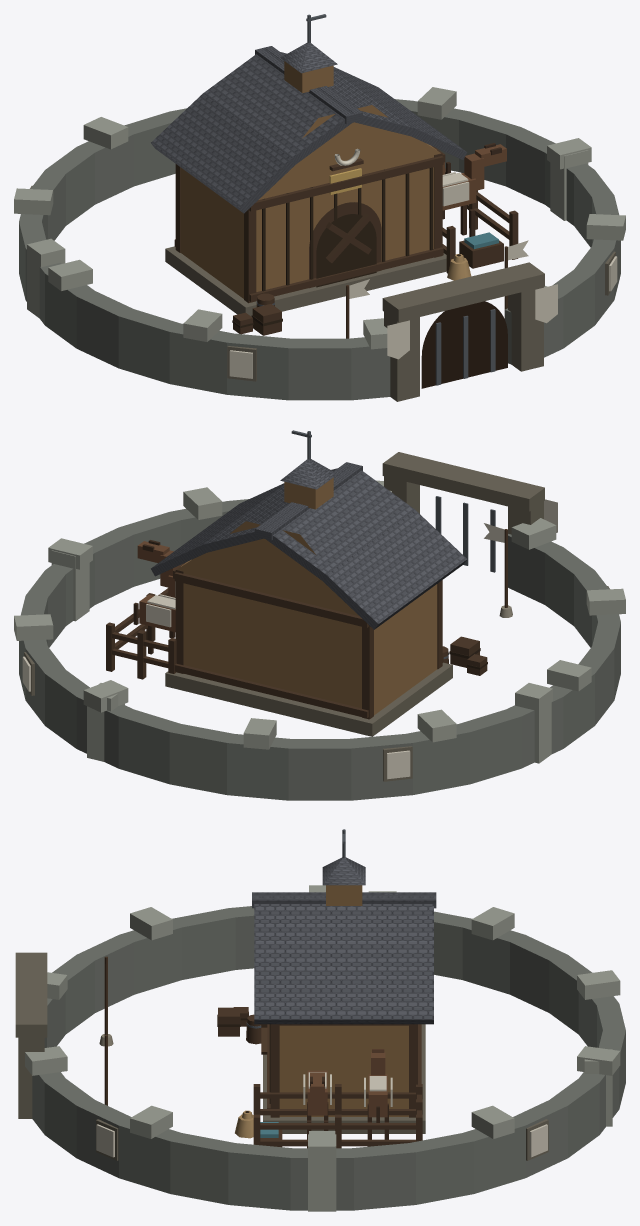
File: town-cavalry-L2.glb
3 views of the same model, one above another, from view 1: azimuth 30°, elevation 25°; view 2: azimuth 150°, elevation 25°; view 3: azimuth 270°, elevation 25° (orthographic).
Parts seen in each view (by area): view 1: building-cavalry-L2, object 8, object 9, object 10, object 12, object 11, object 13, object 2, object 7; view 2: building-cavalry-L2, object 8, object 9, object 10, object 11, object 13, object 2; view 3: object 8, building-cavalry-L2, object 9, object 10, object 2, object 11.
Part boxes in pixels (x1=…): building-cavalry-L2: x1=151, y1=14, x2=518, y2=335; object 8: x1=19, y1=99, x2=620, y2=400; object 9: x1=14, y1=87, x2=625, y2=349; object 10: x1=30, y1=185, x2=615, y2=401; object 12: x1=421, y1=301, x2=507, y2=388; object 11: x1=229, y1=256, x2=617, y2=378; object 13: x1=435, y1=309, x2=495, y2=385; object 2: x1=233, y1=246, x2=507, y2=338; object 7: x1=349, y1=240, x2=528, y2=298; building-cavalry-L2: x1=106, y1=430, x2=480, y2=736; object 8: x1=19, y1=499, x2=620, y2=800; object 9: x1=14, y1=480, x2=625, y2=763; object 10: x1=24, y1=452, x2=609, y2=781; object 11: x1=22, y1=499, x2=557, y2=779; object 13: x1=435, y1=496, x2=495, y2=572; object 2: x1=442, y1=529, x2=507, y2=675; object 8: x1=32, y1=906, x2=625, y2=1210; building-cavalry-L2: x1=217, y1=829, x2=436, y2=1148; object 9: x1=25, y1=885, x2=620, y2=1211; object 10: x1=15, y1=952, x2=548, y2=1160; object 2: x1=104, y1=956, x2=261, y2=1105; object 11: x1=96, y1=1124, x2=547, y2=1157.
Size of the model in its own units: 7.02 by 3.17 by 6.95.
16 materials, 1 textured.
